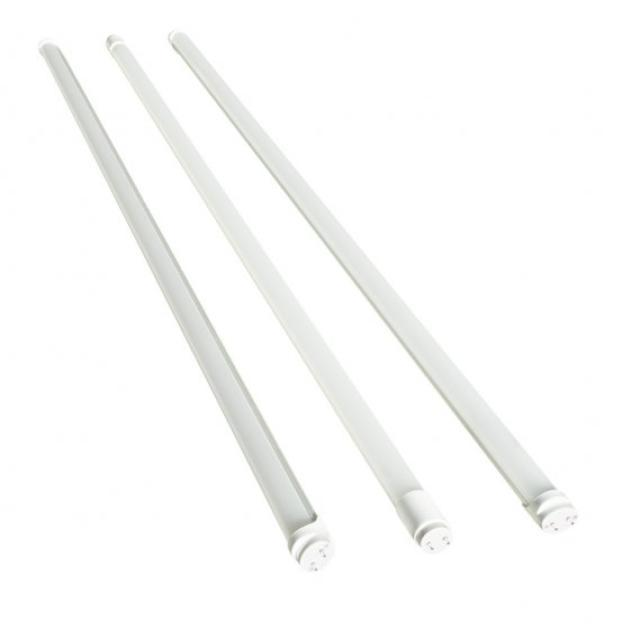tubelight_off: (160, 24, 598, 541), (102, 31, 467, 564), (30, 39, 352, 584)
